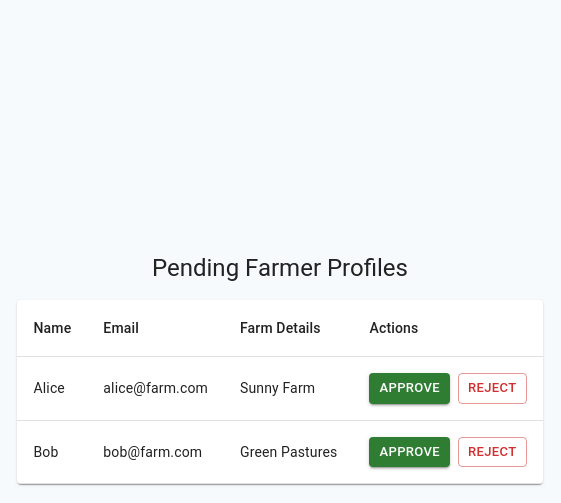
Test: ProfileReviewApproval › renders pending farmers and allows rejection
Expected: the text "Bob" is shown, [18,420,87,484]
What coordinates should you click on to do the following:
click the button "Reject" in the row of "alice@farm.com"
I would click on:
 (492, 388)
Its box is [458,373,526,404].
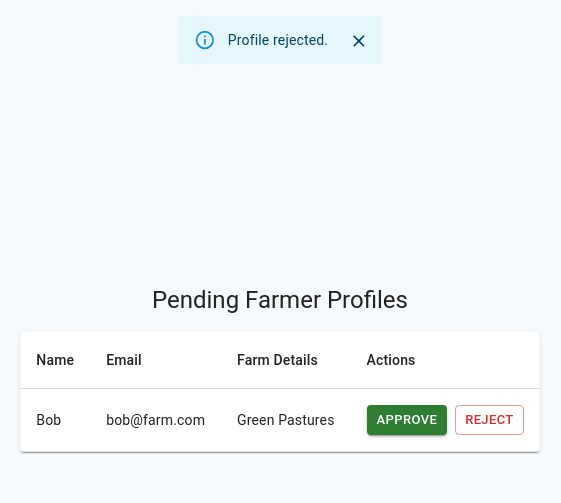
Expected: the text "Profile rejected." is shown, [228,32,328,48]
